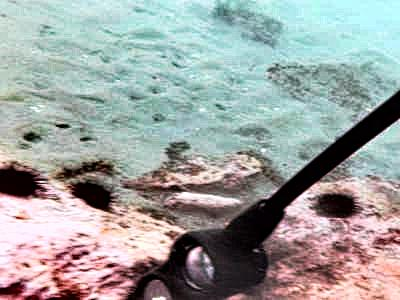urchin: (1, 164, 40, 199), (72, 180, 115, 209), (313, 191, 357, 217)
